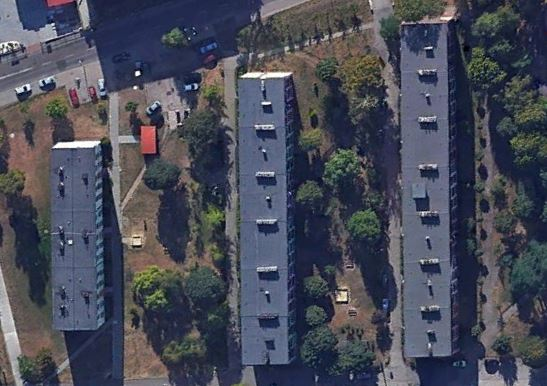block of flats: (396, 19, 467, 362), (236, 69, 299, 366), (50, 136, 112, 334)
